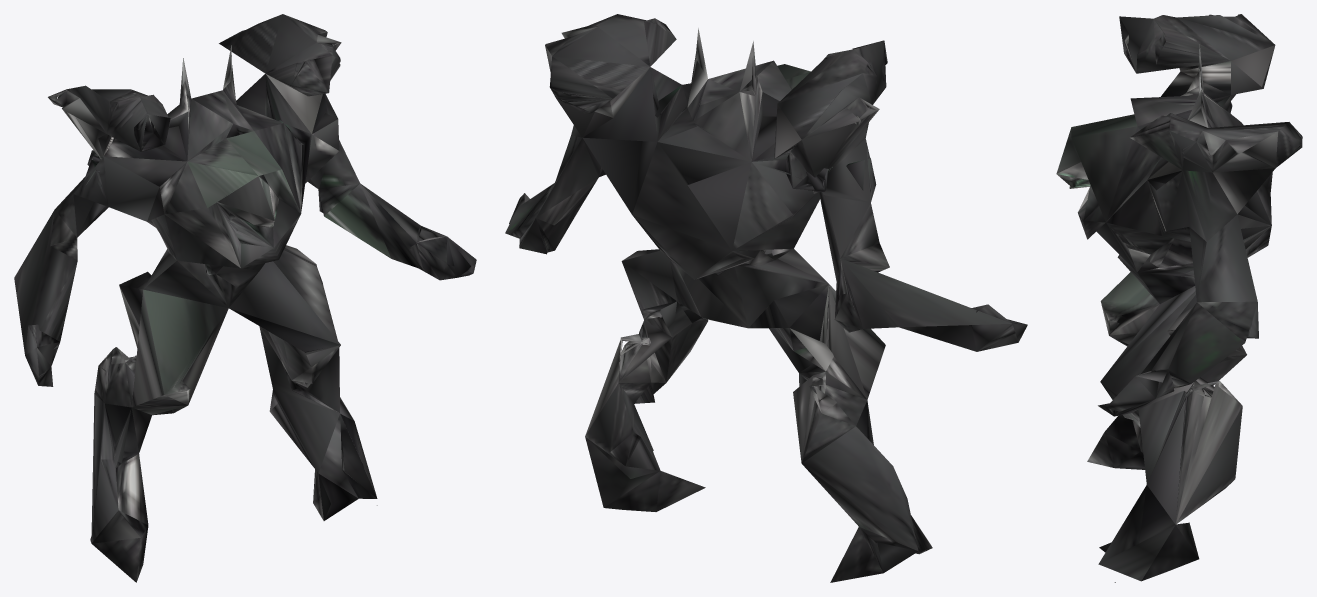
The model's file is iron_wolf_lod2.glb.
3 renders of one model, left to right at view 1: azimuth 30°, elevation 25°; view 2: azimuth 150°, elevation 25°; view 3: azimuth 270°, elevation 25°, orthographic. The views are drawn at different scales.
Parts seen in each view (by area): view 1: Mesh_0; view 2: Mesh_0; view 3: Mesh_0.
Boxes of the visible parts, x1,y1,x2,y2 form: Mesh_0: (14, 14, 476, 582); Mesh_0: (505, 14, 1027, 582); Mesh_0: (1056, 14, 1302, 582).
Size of the model in its own units: 1.82 by 1.82 by 0.8643.
Materials: 1 (1 with a texture image).
